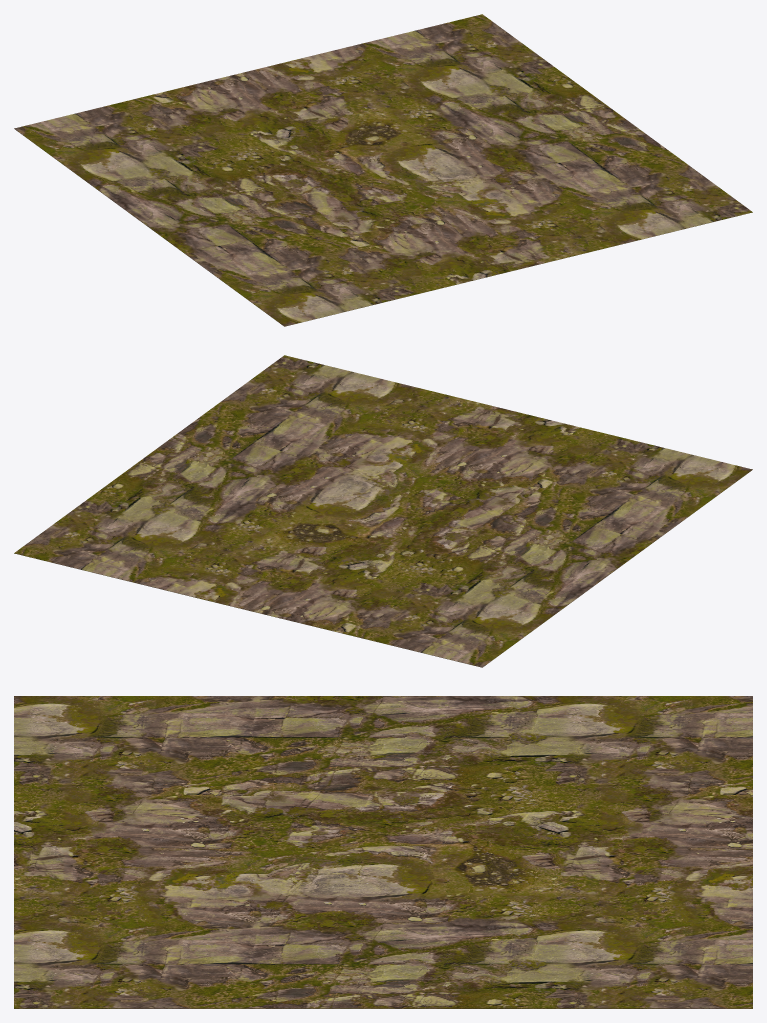
File: 岩の床.fbx
The picture shows the model from 3 angles, top to bottom: view 1: azimuth 30°, elevation 25°; view 2: azimuth 150°, elevation 25°; view 3: azimuth 270°, elevation 25°; orthographic projection. The views are drawn at different scales.
Visible parts, largest first — view 1: 立方体; view 2: 立方体; view 3: 立方体.
Boxes of the visible parts, x1,y1,x2,y2 form: 立方体: [14, 14, 752, 326]; 立方体: [14, 355, 752, 667]; 立方体: [14, 696, 752, 1008].
Size of the model in its own units: 29298 by 15.82 by 29298.
